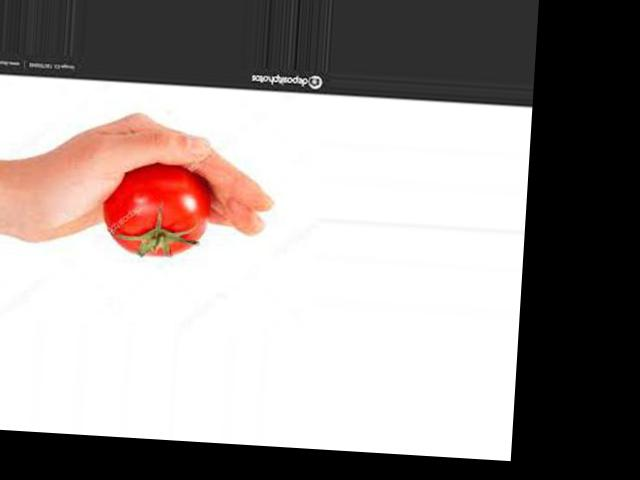tomato: (99, 162, 209, 258)
